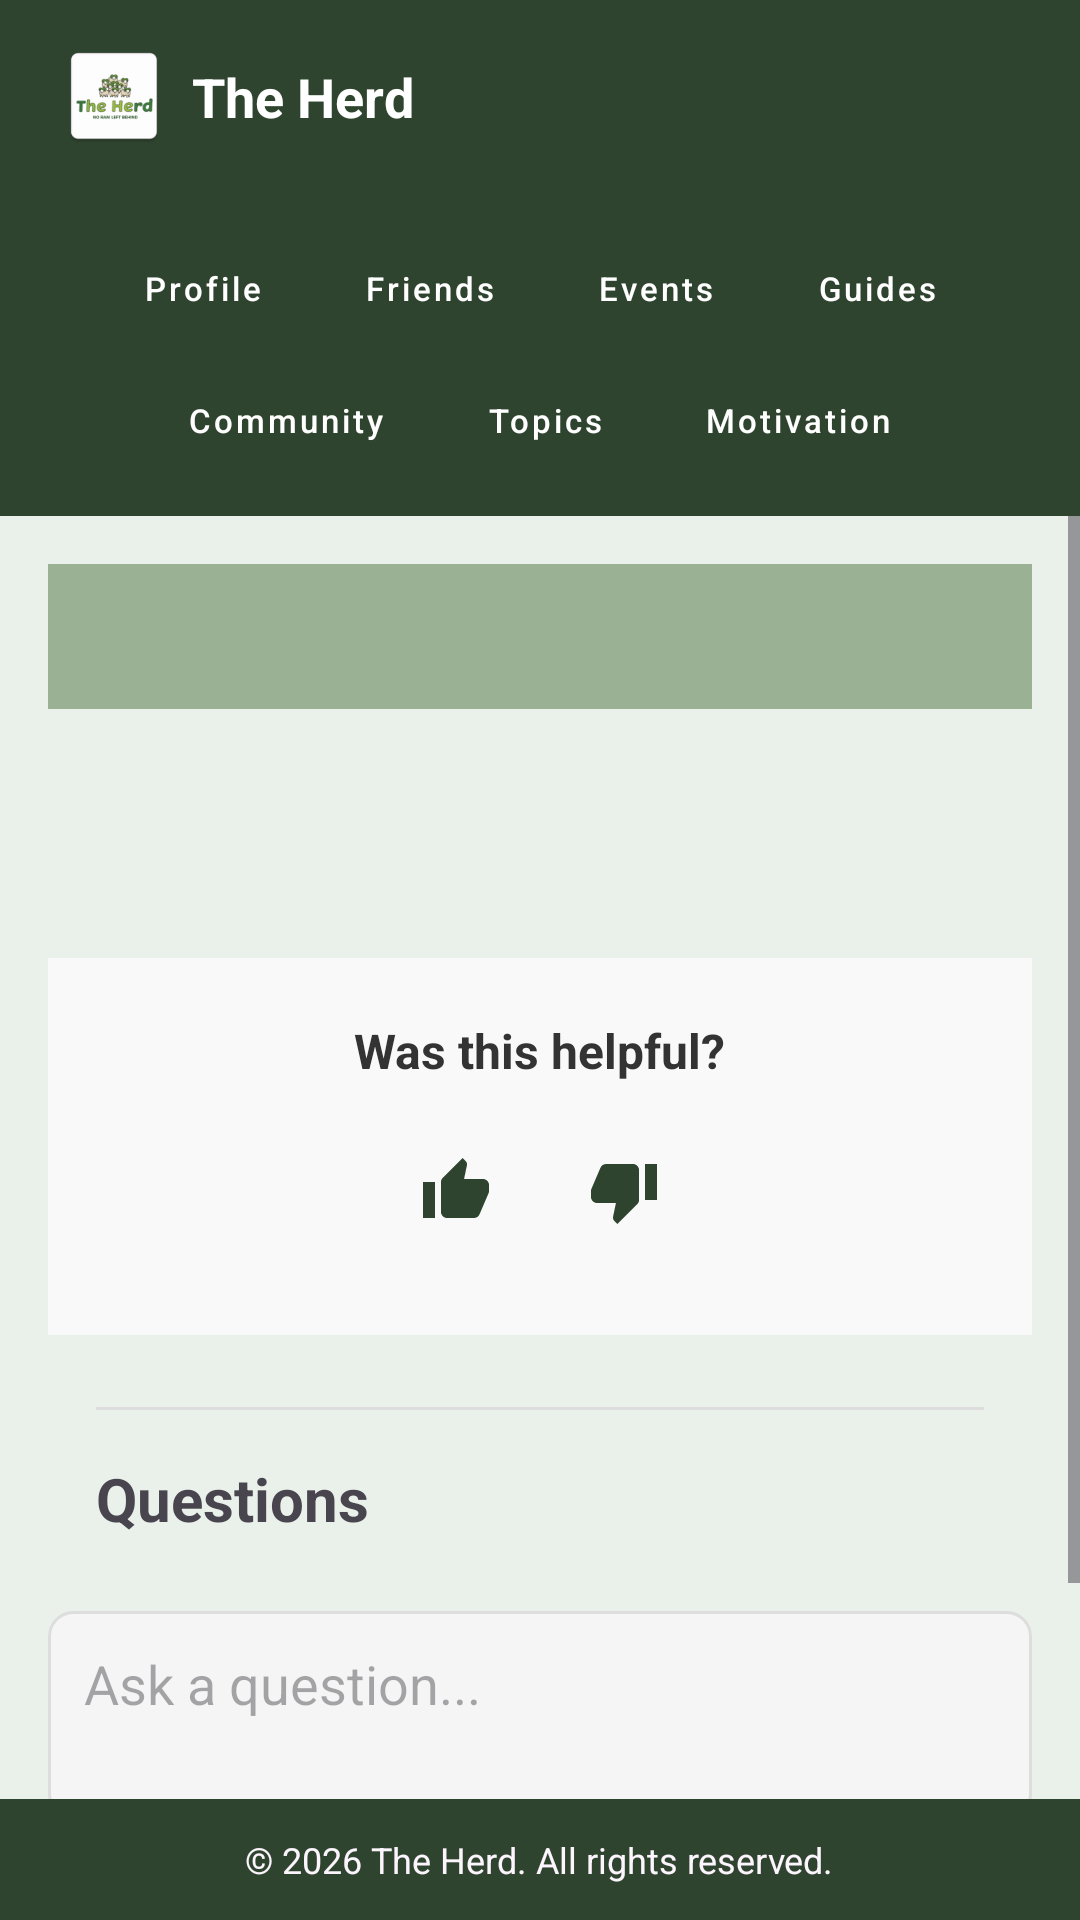

Icon bounding boxes for this 1080*1920 phone screenshot, format [x1,y1,x2,y2]:
Thumbs Down: [591,1164,657,1224]
Thumbs Up: [423,1158,489,1218]
